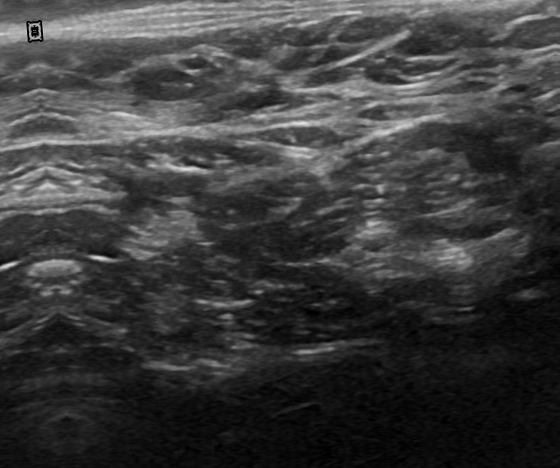Normal: (54, 9, 560, 440)
